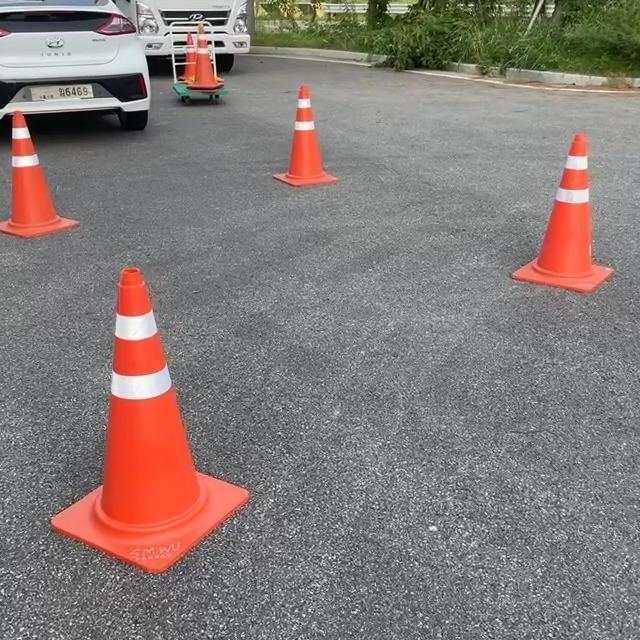fallen_object: (56, 267, 286, 579), (249, 73, 411, 248), (514, 116, 640, 329), (0, 94, 86, 247), (169, 22, 225, 131)
